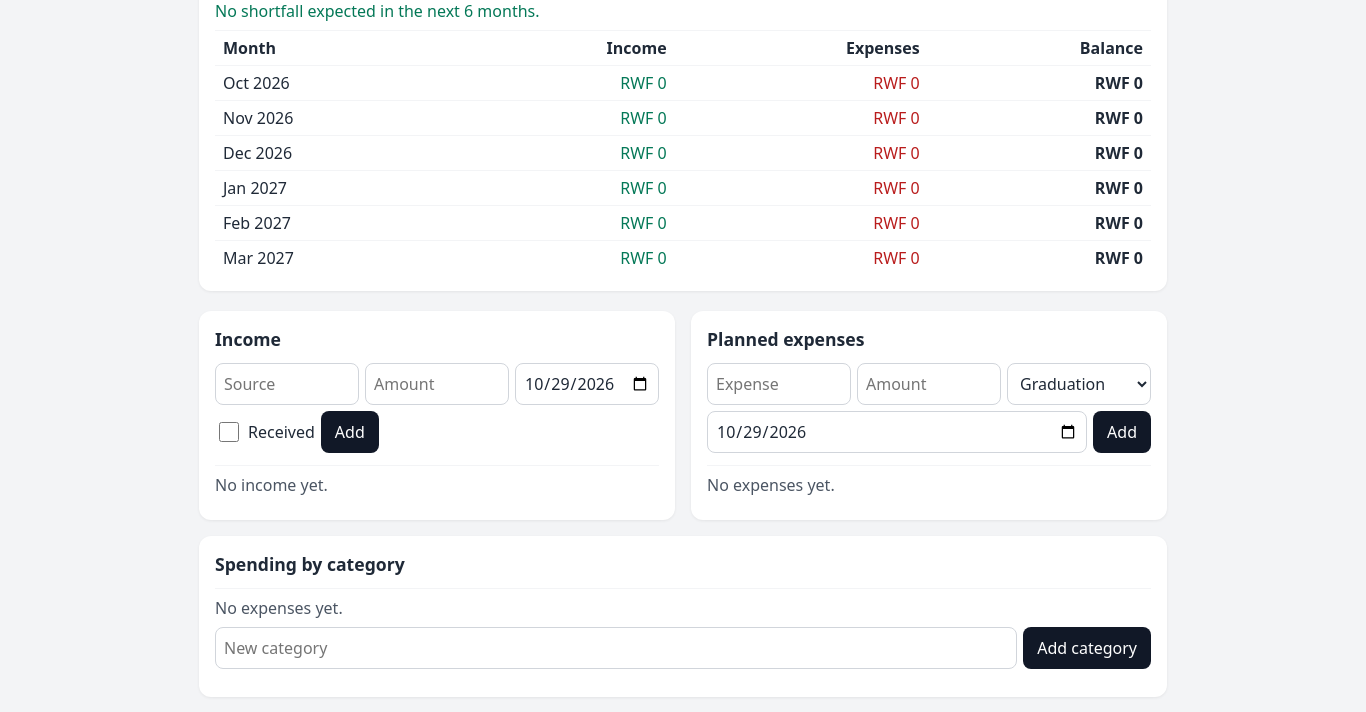
it: App › warns when the timeline goes negative
The width and height of the screenshot is (1366, 712).
(page scrolled)
Expected: the text "No shortfall expected in the next 6 months." is shown, x1=215 y1=0 x2=540 y2=22
In the field named "Expense name": (779, 384) x1=707 y1=363 x2=851 y2=405, type "Trip"
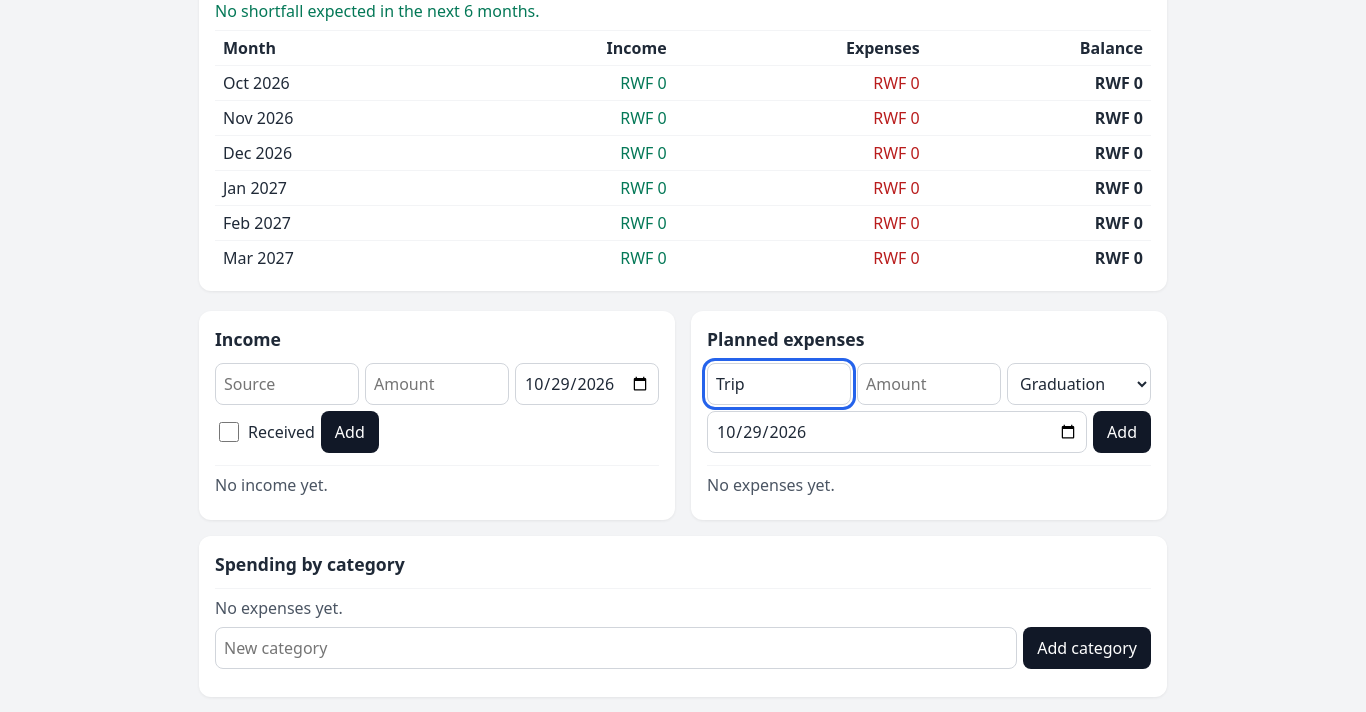
In the number field named "Expense amount": (929, 384) x1=857 y1=363 x2=1001 y2=405, type "50000"
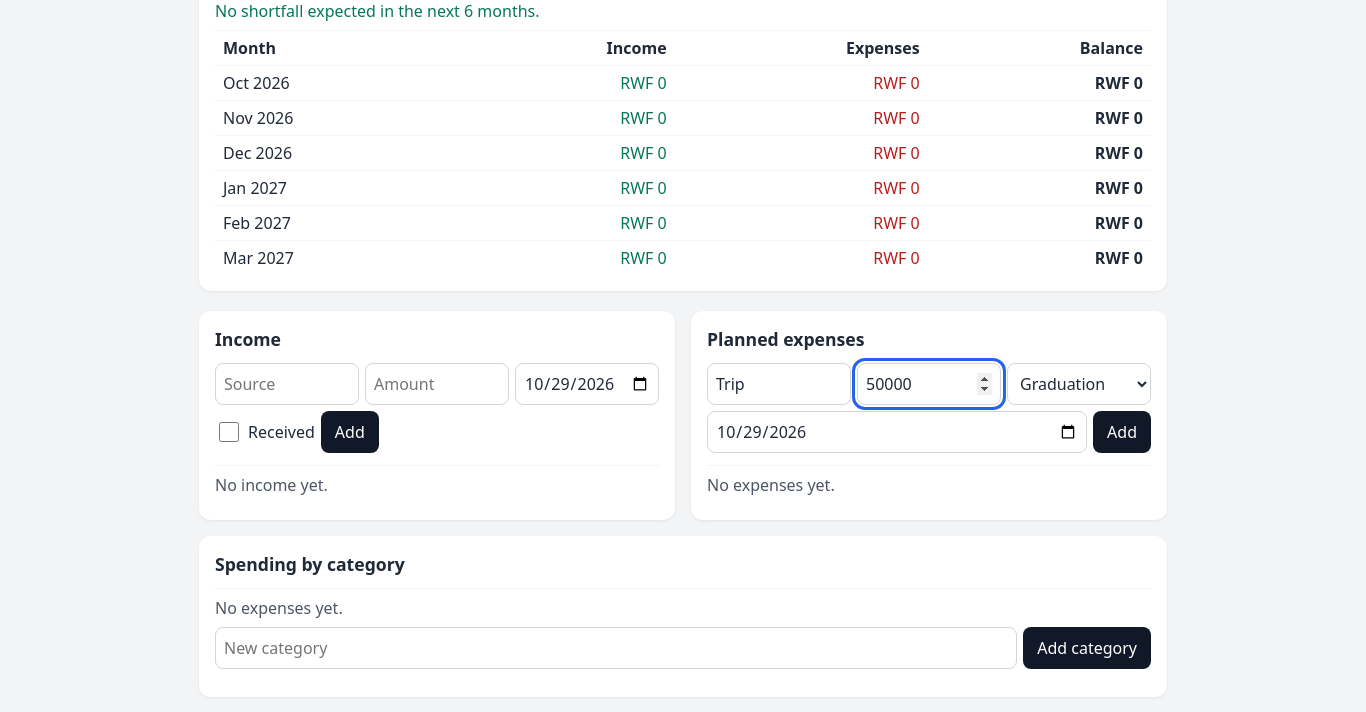
Click the 2nd button "Add": (1122, 432) x1=1093 y1=411 x2=1151 y2=453
(page scrolled)
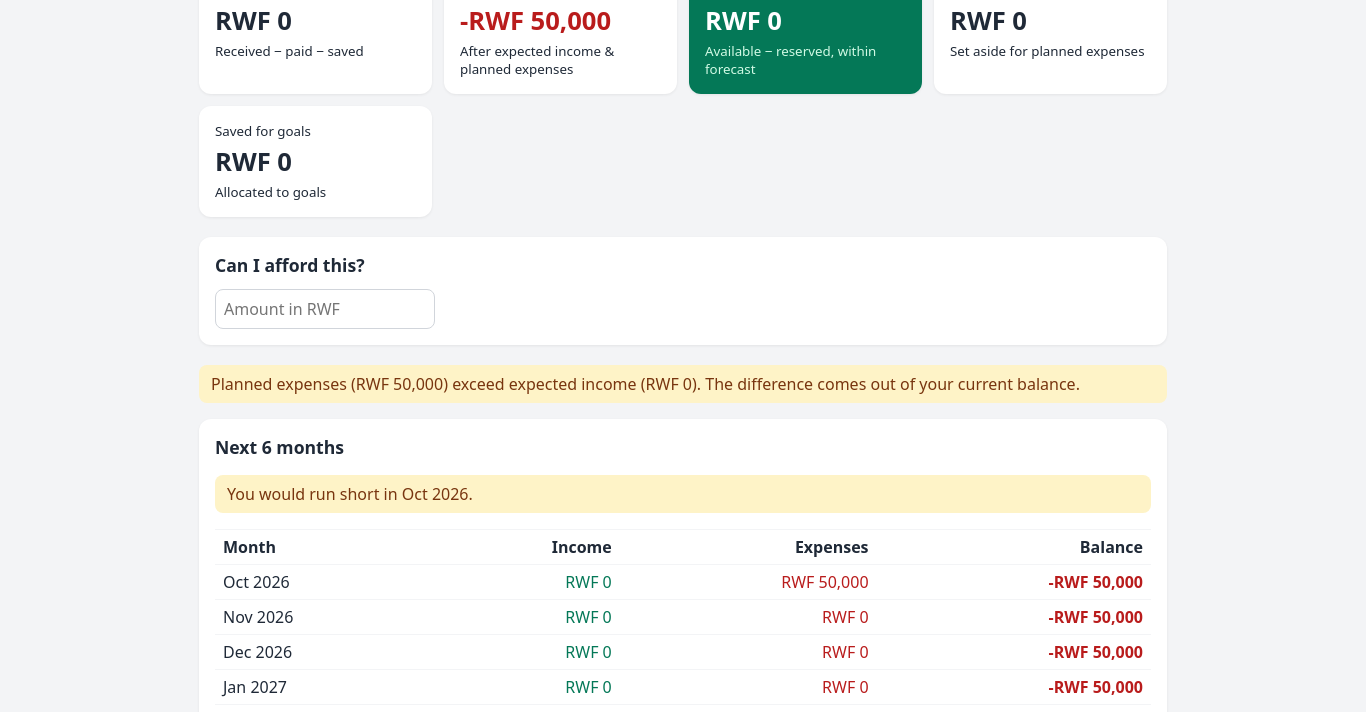
Expected: the text "You would run short in Oct 2026." is shown, x1=215 y1=475 x2=1151 y2=513
Expected: the text "exceed expected income" is shown, x1=443 y1=373 x2=646 y2=395
